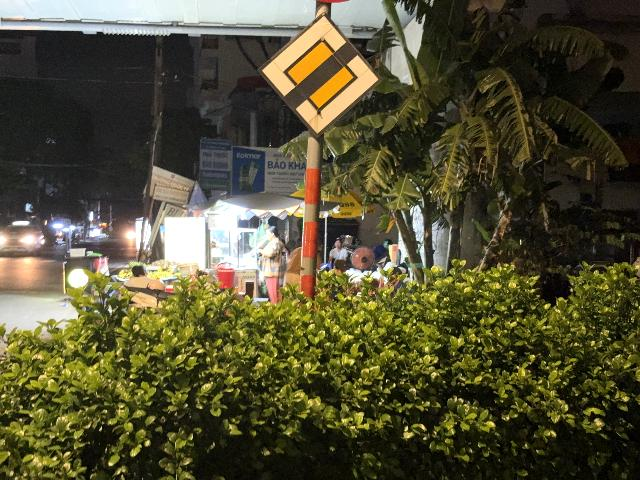het-duong-uu-tien: (256, 12, 382, 138)
